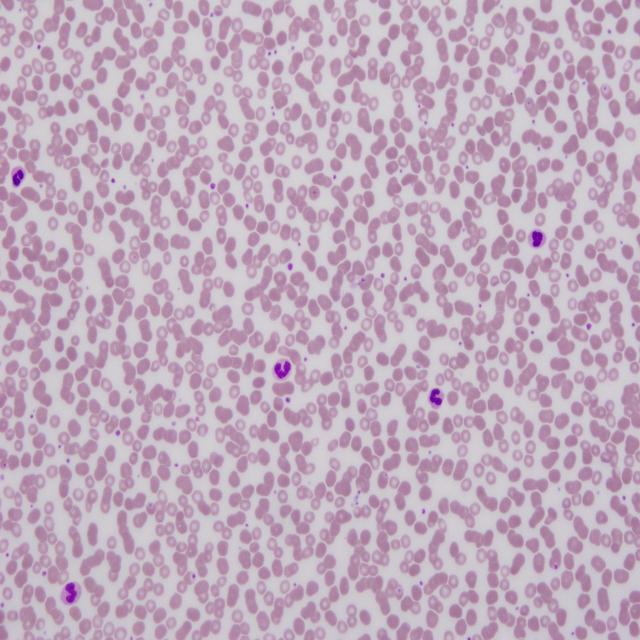cell: (60, 582, 81, 604), (274, 359, 291, 379), (429, 387, 444, 408), (11, 167, 25, 186)
